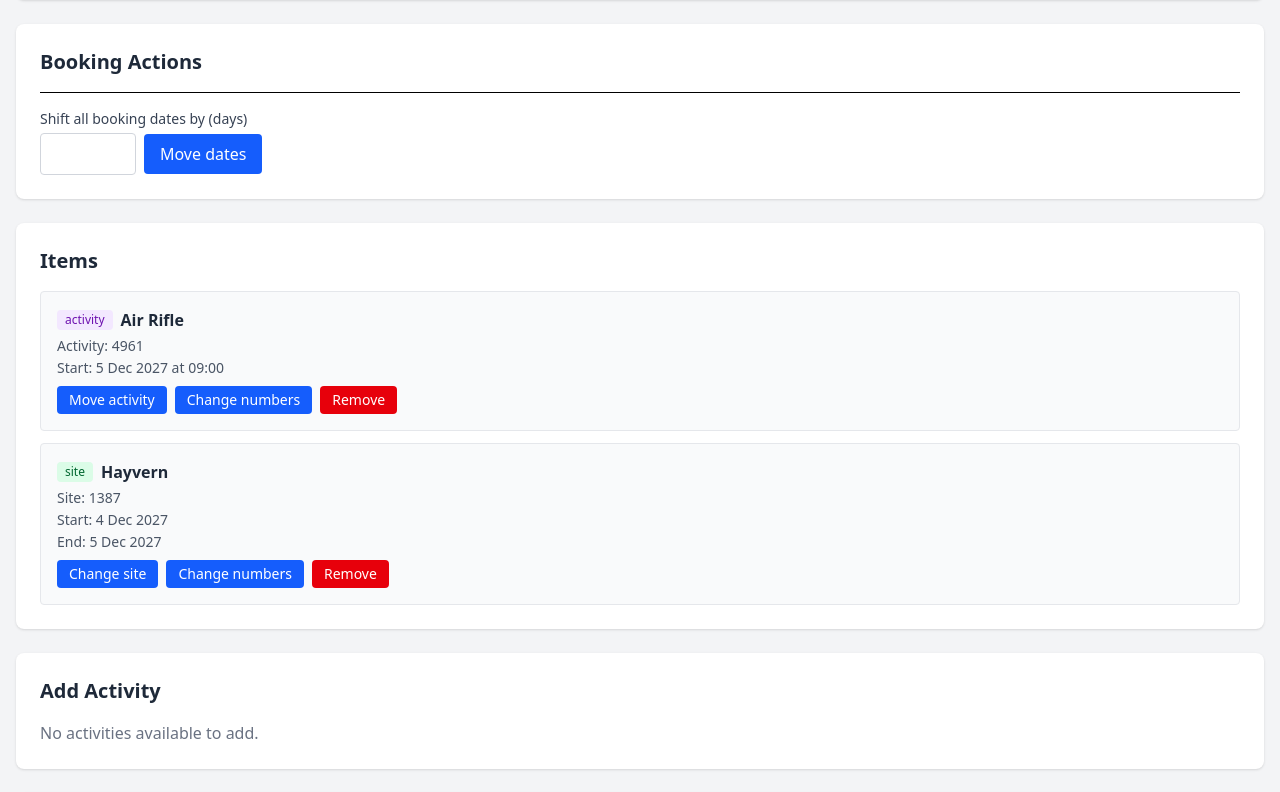
Test: move-activity action › disables Move until at least one field is changed (no pointless no-op)
(page scrolled)
Click the button "Move activity" at {"x": 112, "y": 400}, box [57,386,167,414]
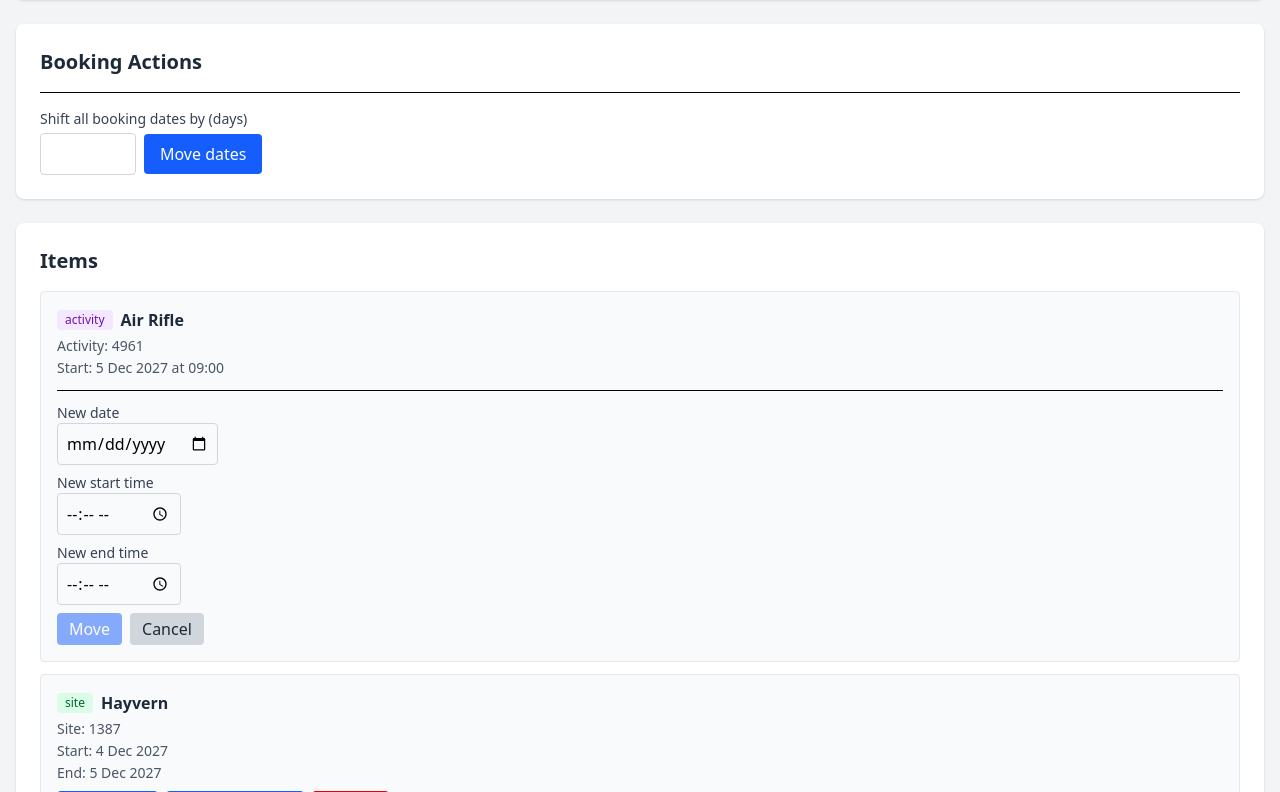
expect the button "Move" is disabled: met, box [57,613,122,645]
